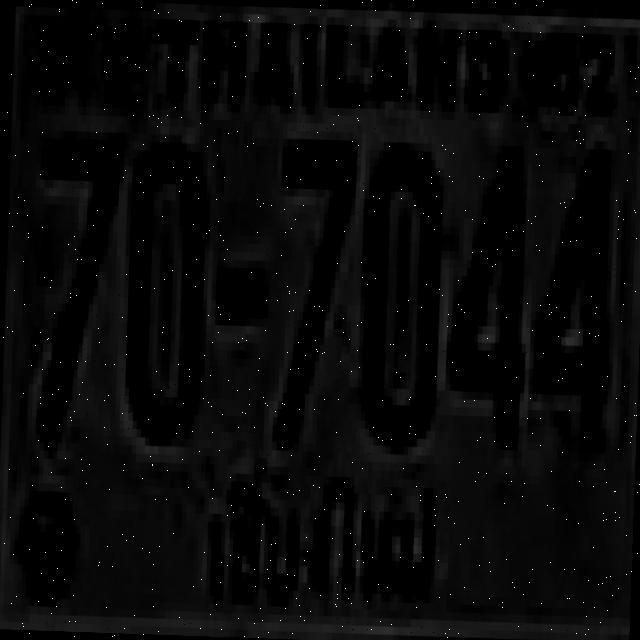0: (119, 133, 204, 439), (355, 136, 440, 442)
4: (526, 138, 611, 444), (443, 140, 528, 438)
7: (31, 130, 116, 444), (272, 130, 352, 443)
ChiangMai: (188, 462, 445, 620)
